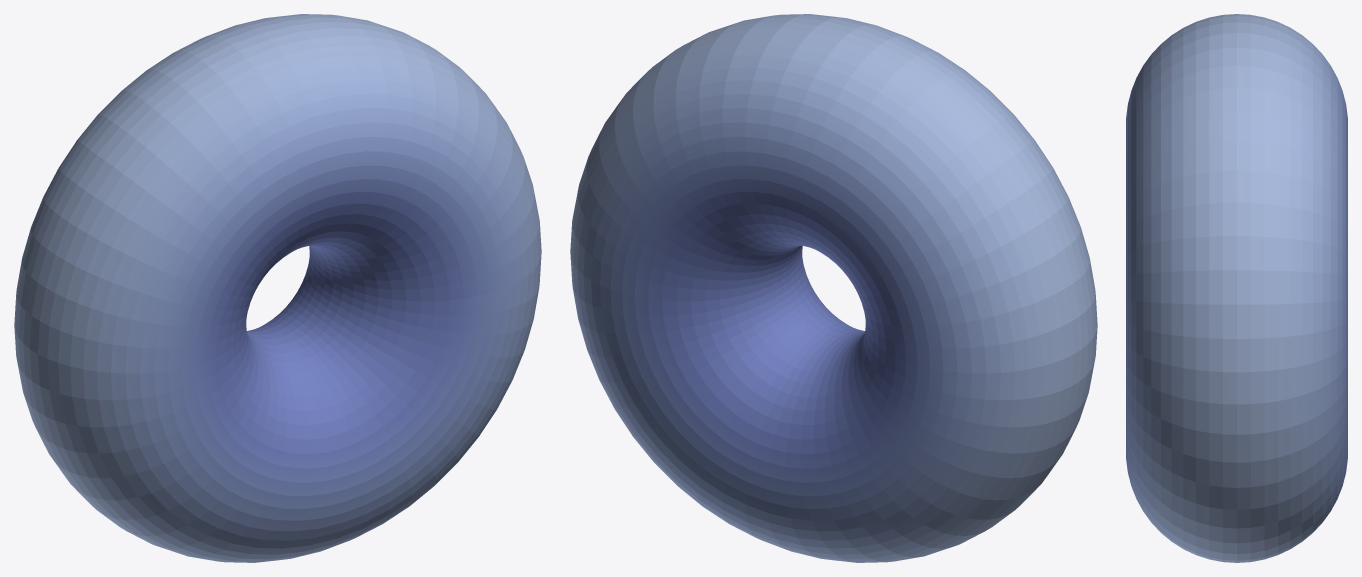
3 views of the same model, side by side, from view 1: azimuth 30°, elevation 25°; view 2: azimuth 150°, elevation 25°; view 3: azimuth 270°, elevation 25° (orthographic). The views are drawn at different scales.
Parts seen in each view (by area): view 1: world; view 2: world; view 3: world.
Part boxes in pixels (box(x1,y1,x2,y2)): world: box(14, 14, 541, 562); world: box(570, 14, 1097, 562); world: box(1126, 14, 1347, 562).
Size of the model in its own units: 16.8 by 16.77 by 6.79.
